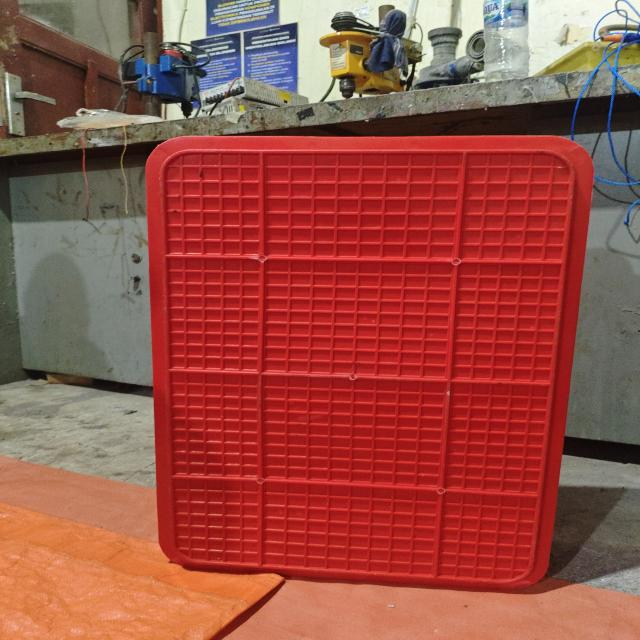red plastic box: (145, 136, 594, 589)
